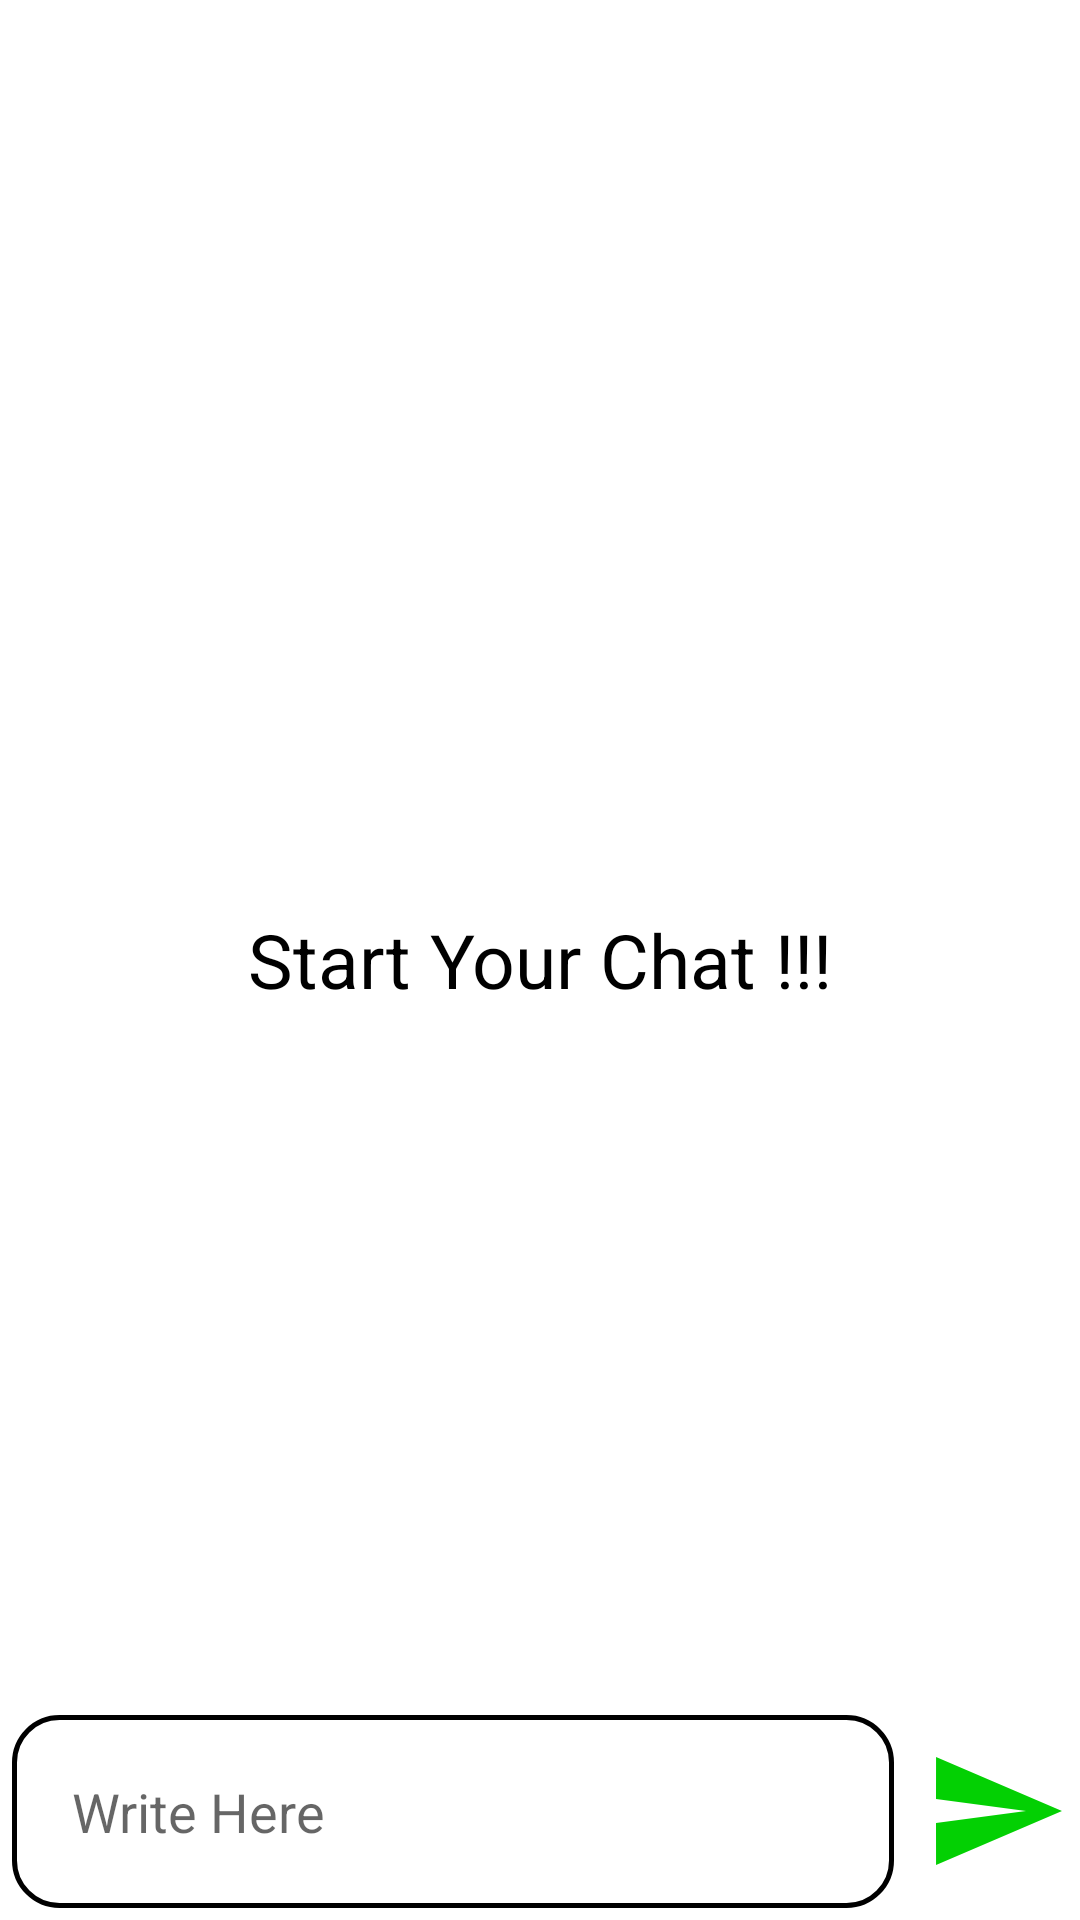

Screen size 1080px×1920px. Icon name, then its box in pixels as bbox=[x1, y1, x2, y2]:
sendbutton: bbox=[936, 1757, 1062, 1865]
